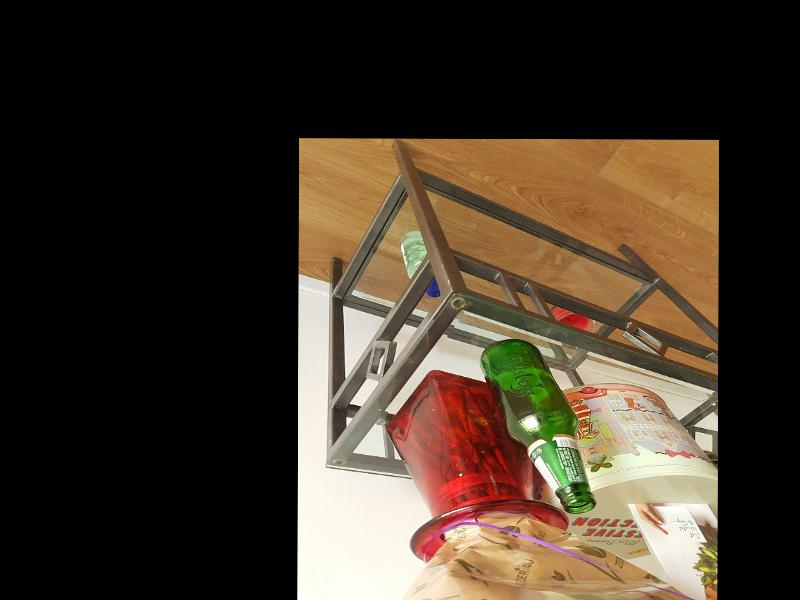Beer: (479, 339, 594, 513)
